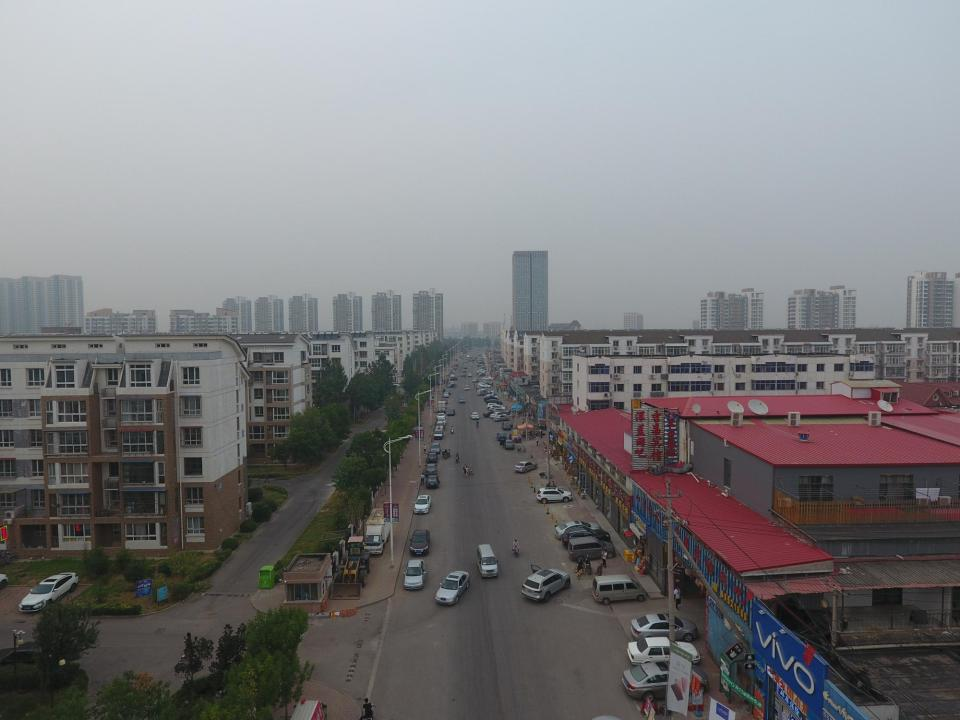car: (622, 662, 709, 702), (19, 572, 78, 612), (627, 637, 700, 667), (630, 613, 698, 643), (521, 564, 571, 602), (0, 641, 59, 669), (435, 571, 470, 605), (561, 527, 610, 549), (554, 521, 601, 541), (403, 559, 429, 590), (536, 487, 573, 504), (409, 529, 431, 555), (414, 494, 432, 513), (514, 461, 537, 473), (425, 475, 440, 488), (424, 463, 438, 475), (499, 439, 514, 449), (426, 452, 438, 463), (430, 443, 441, 454), (486, 402, 505, 408), (493, 414, 509, 421), (485, 398, 502, 404), (490, 412, 506, 418), (489, 404, 505, 410), (483, 411, 498, 417), (501, 422, 512, 430), (492, 408, 509, 413), (496, 432, 506, 440), (470, 412, 480, 419), (485, 394, 499, 399), (484, 395, 497, 400), (437, 418, 446, 425), (436, 413, 446, 419), (483, 389, 495, 394), (481, 383, 491, 388), (447, 409, 455, 415), (448, 376, 457, 381), (483, 376, 494, 380), (459, 397, 465, 403), (442, 398, 448, 404), (443, 392, 449, 398), (445, 389, 451, 395), (447, 384, 456, 388), (472, 378, 480, 382), (464, 385, 470, 390), (467, 372, 472, 377), (478, 373, 485, 376), (460, 373, 464, 376)
truck: (364, 508, 391, 553), (289, 698, 327, 720), (434, 428, 443, 440), (438, 401, 446, 412)
van: (592, 575, 646, 605), (567, 537, 616, 563), (476, 544, 498, 578), (436, 420, 444, 430), (476, 390, 488, 395)
